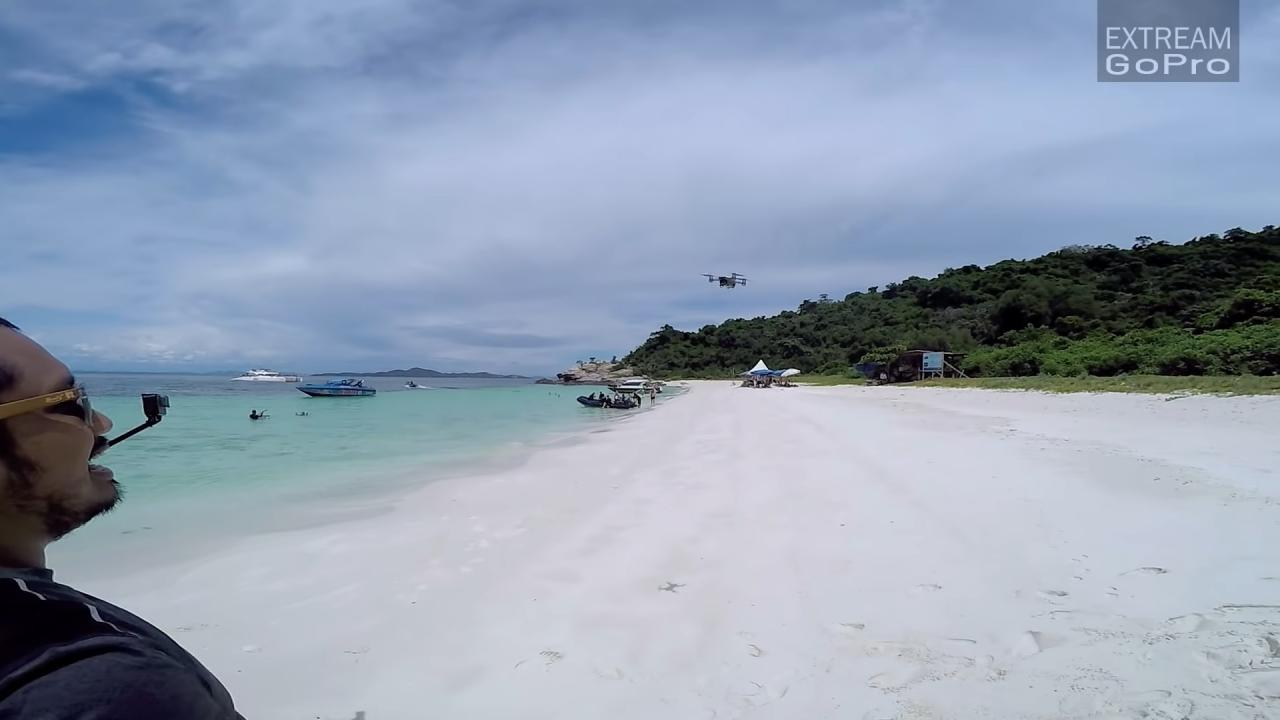Drone: (690, 262, 760, 300)
